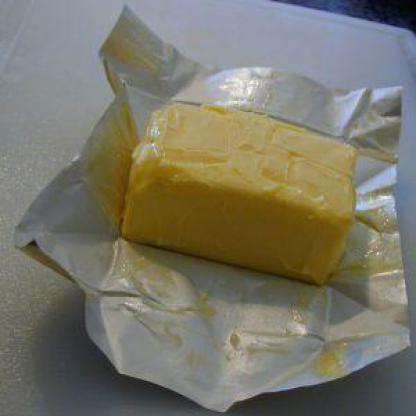butter: (125, 108, 349, 291)
